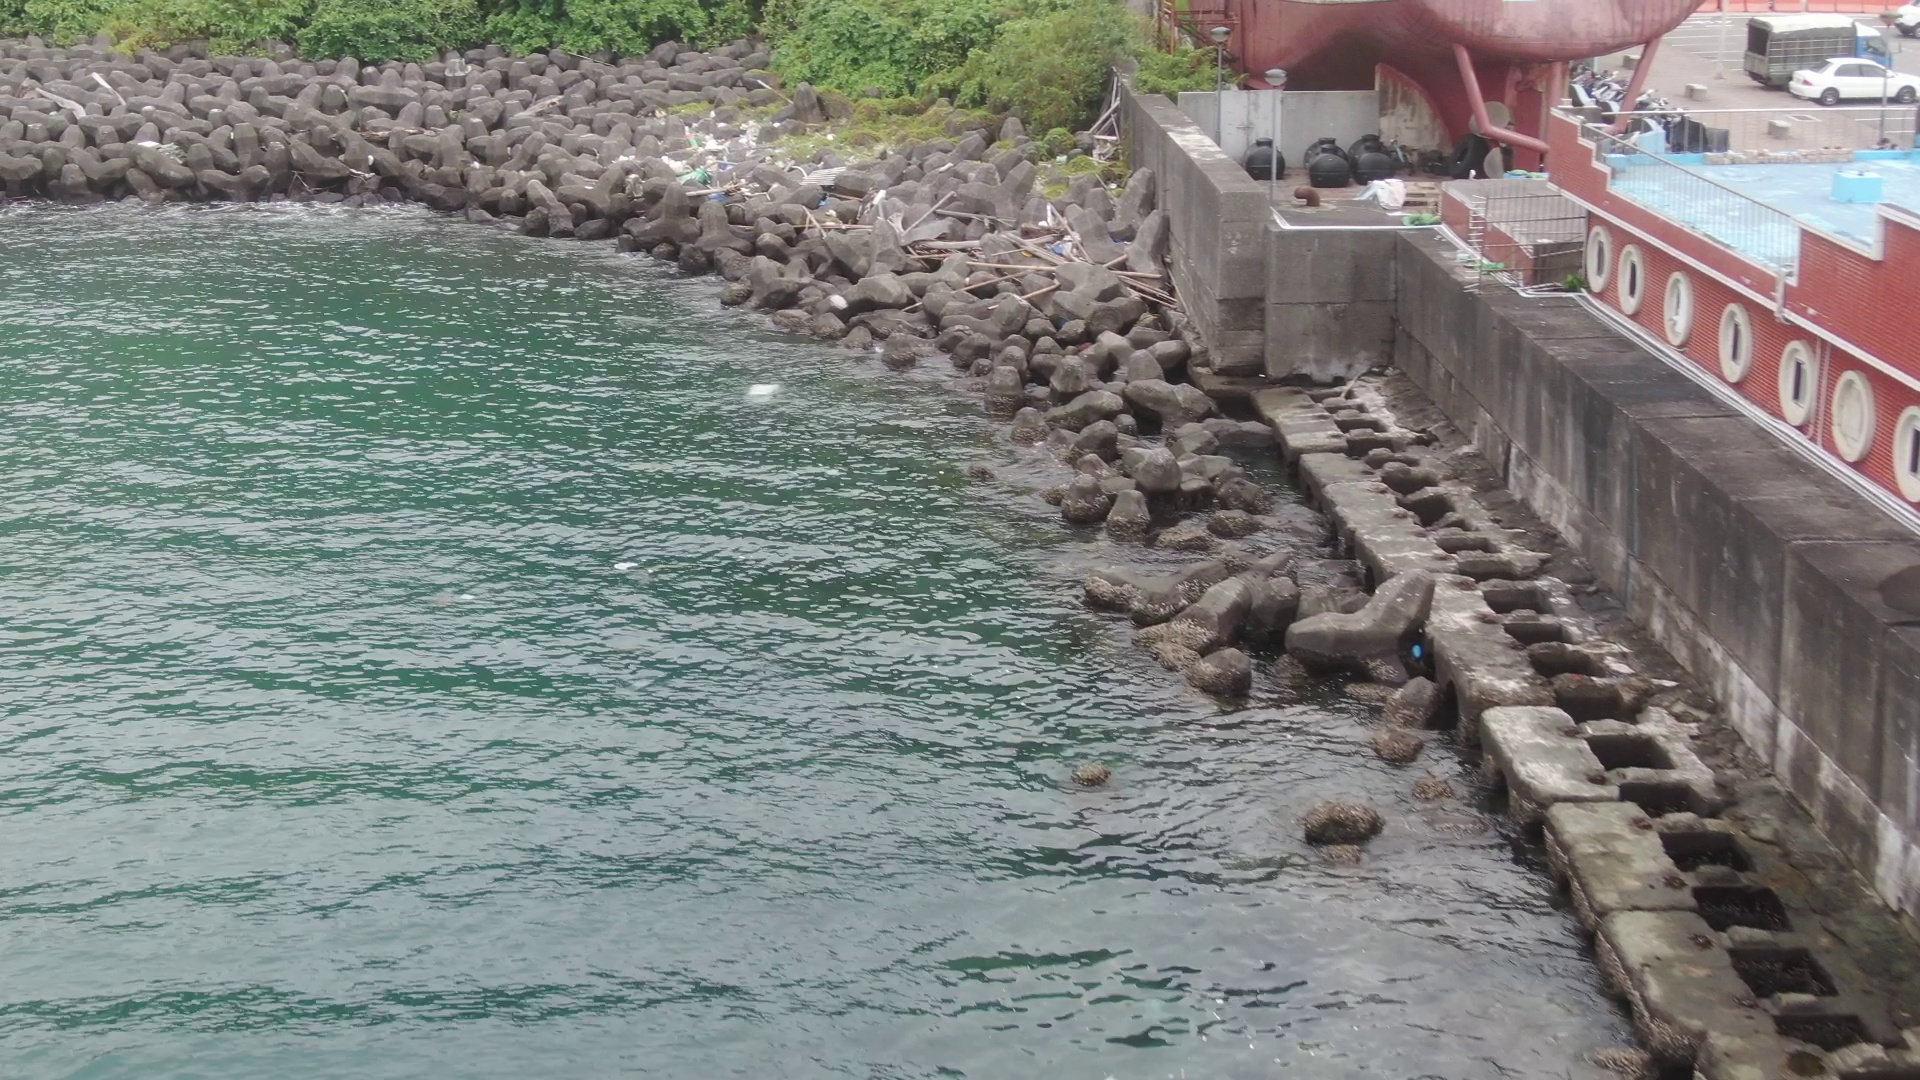garbage: (641, 96, 841, 218), (1010, 196, 1110, 277), (728, 372, 790, 407)
